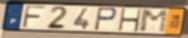2: (47, 6, 70, 30)
4: (72, 7, 91, 31)
F: (21, 4, 48, 29)
H: (117, 8, 143, 34)
M: (139, 9, 170, 34)
P: (92, 7, 118, 32)
